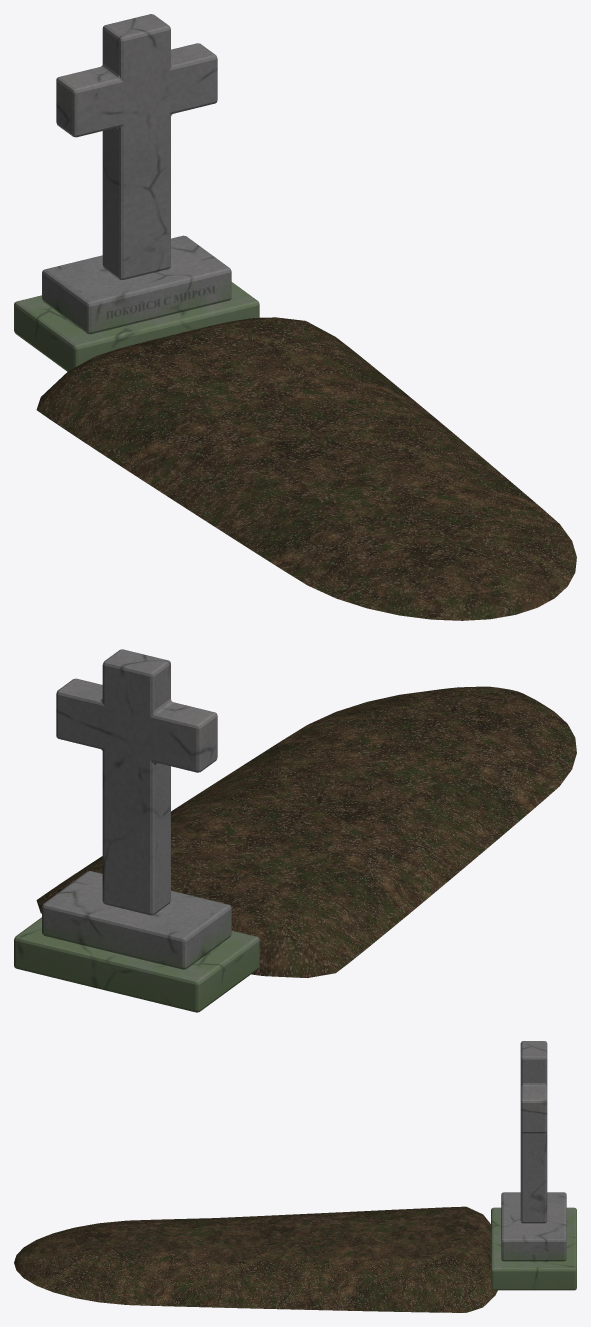
The model's file is gravestone_cross_a.glb.
3 renders of one model, top to bottom at view 1: azimuth 30°, elevation 25°; view 2: azimuth 150°, elevation 25°; view 3: azimuth 270°, elevation 25°, orthographic. The views are drawn at different scales.
Visible parts, largest first — view 1: gravestone_cross_a; view 2: gravestone_cross_a; view 3: gravestone_cross_a.
Boxes of the visible parts, x1,y1,x2,y2 form: gravestone_cross_a: [14, 14, 576, 620]; gravestone_cross_a: [14, 649, 576, 1012]; gravestone_cross_a: [14, 1041, 576, 1312].
Size of the model in its own units: 1.16 by 1.15 by 2.75.
2 materials, 2 textured.
